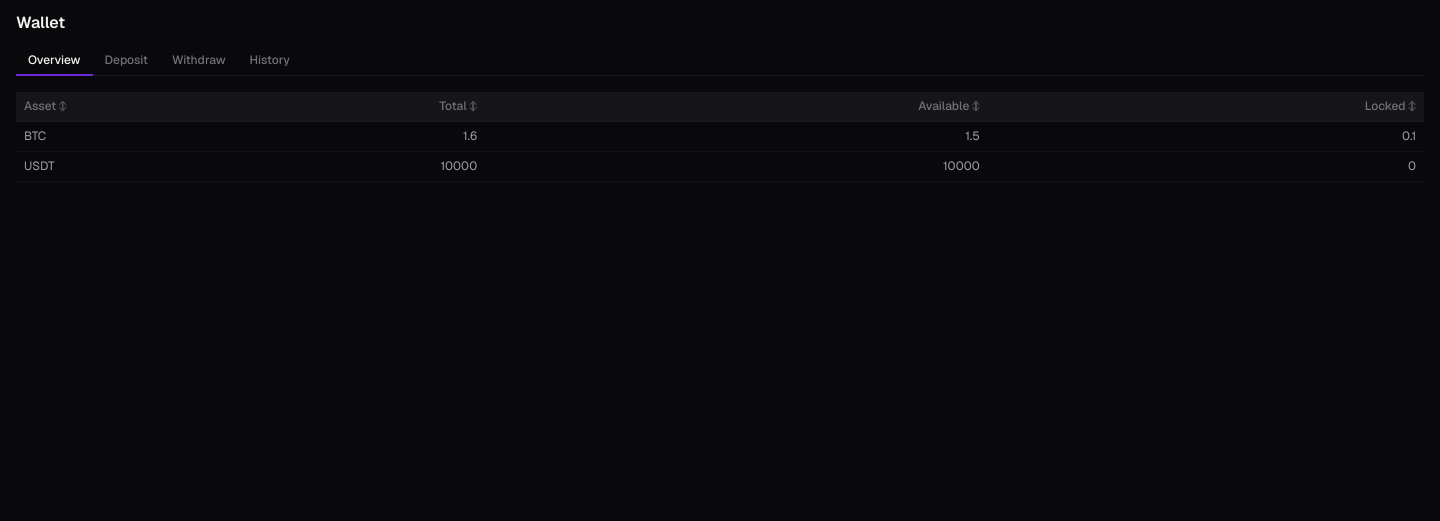
Test case: WalletPage › withdrawal form shows error when amount is zero
This screenshot has width=1440, height=521.
Click the tab "Withdraw": point(199, 61) [160, 46, 238, 76]
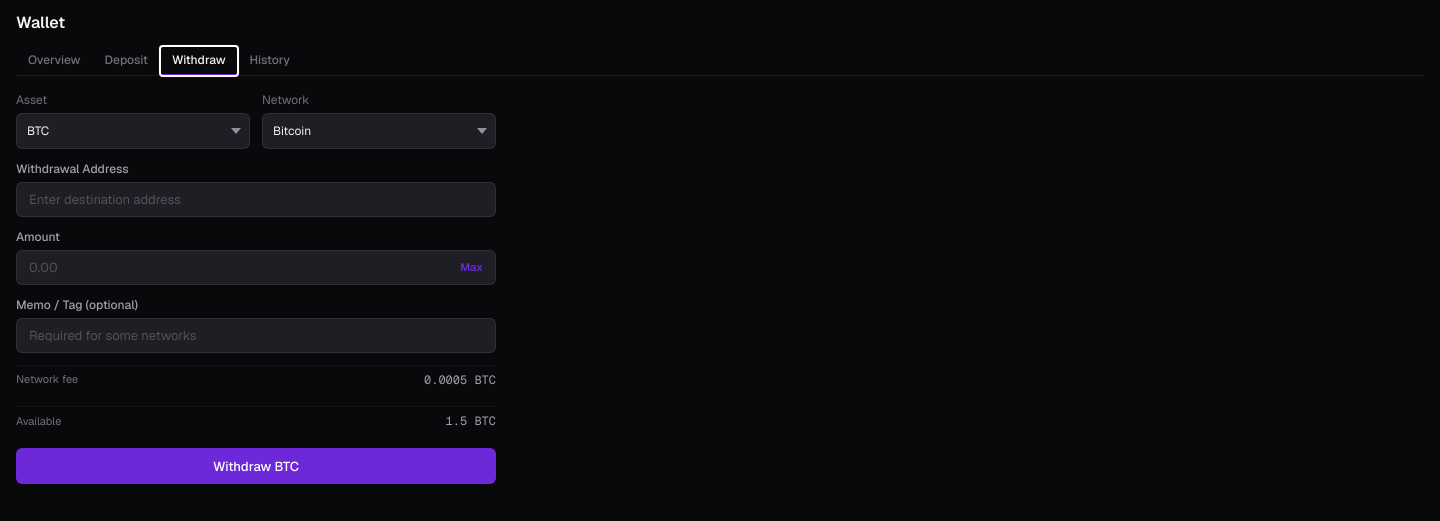
Result: the text "Withdrawal Address" is shown at [16, 161, 129, 177]
Note: Provide address but no amount
In the field with placeholder "Enter destination address": point(256, 200) [17, 183, 495, 216], type "bc1qdestination"
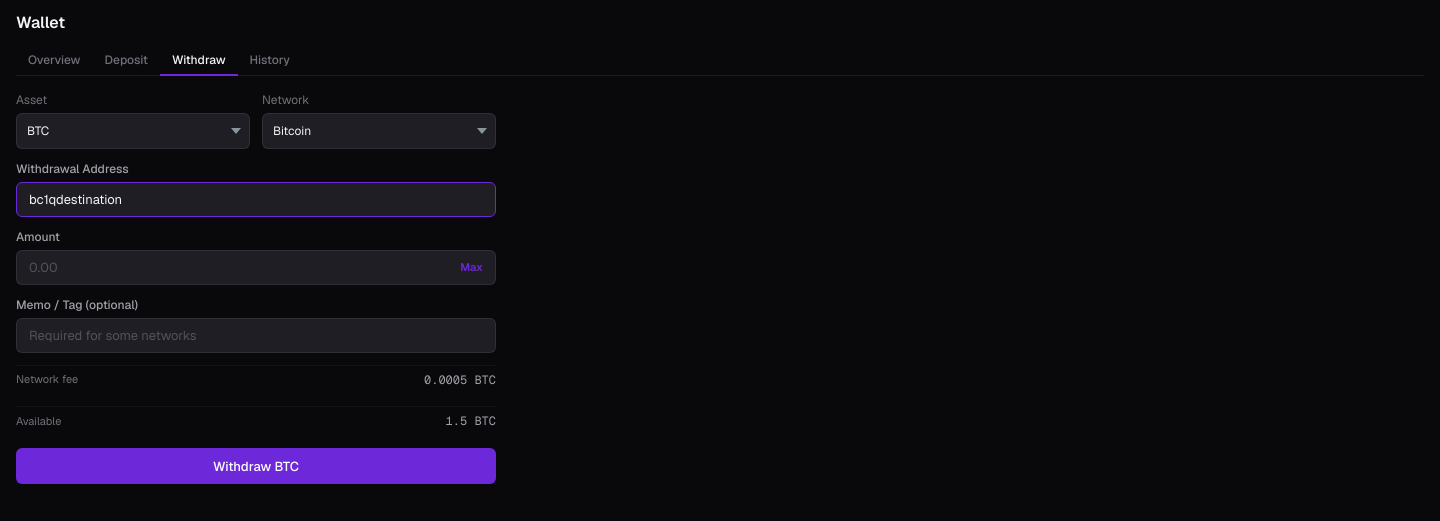
Click the button "Withdraw BTC": point(256, 466) [16, 448, 496, 484]
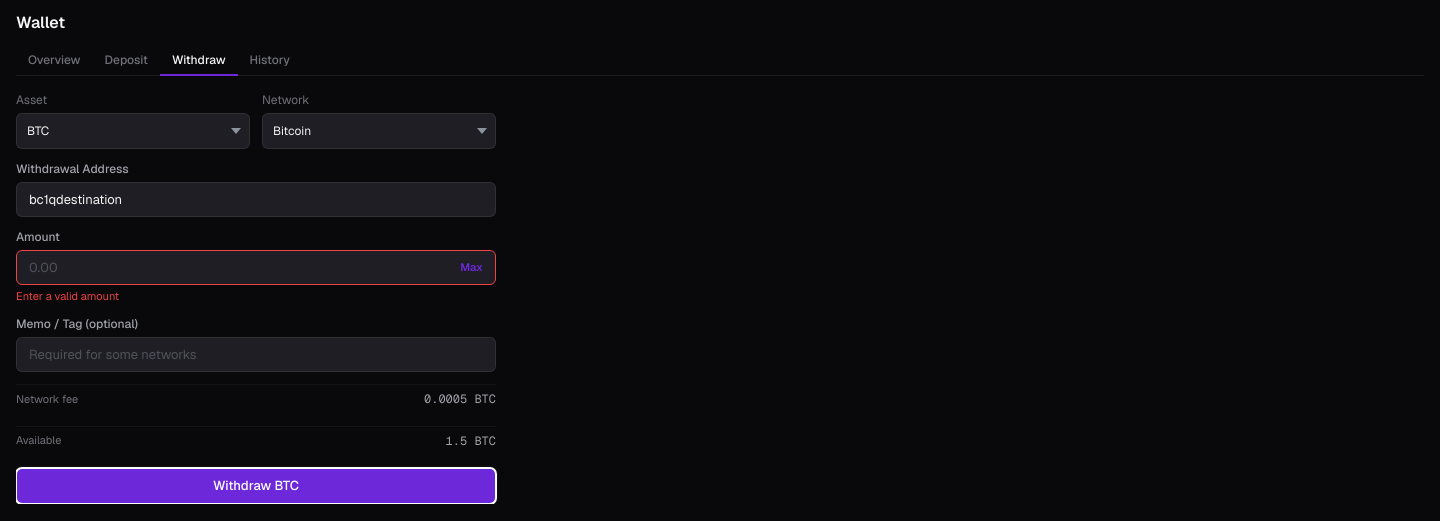
Result: the text "Enter a valid amount" is shown at [16, 289, 119, 303]
